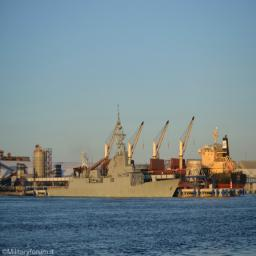Fragata: (46, 122, 184, 202)
